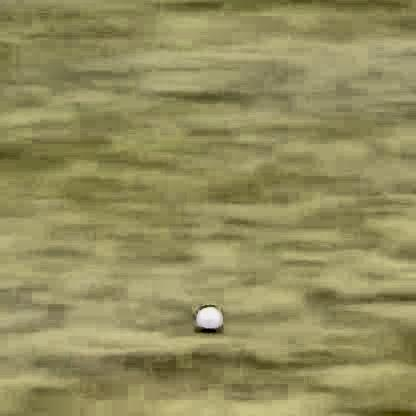golfball: (193, 302, 221, 327)
